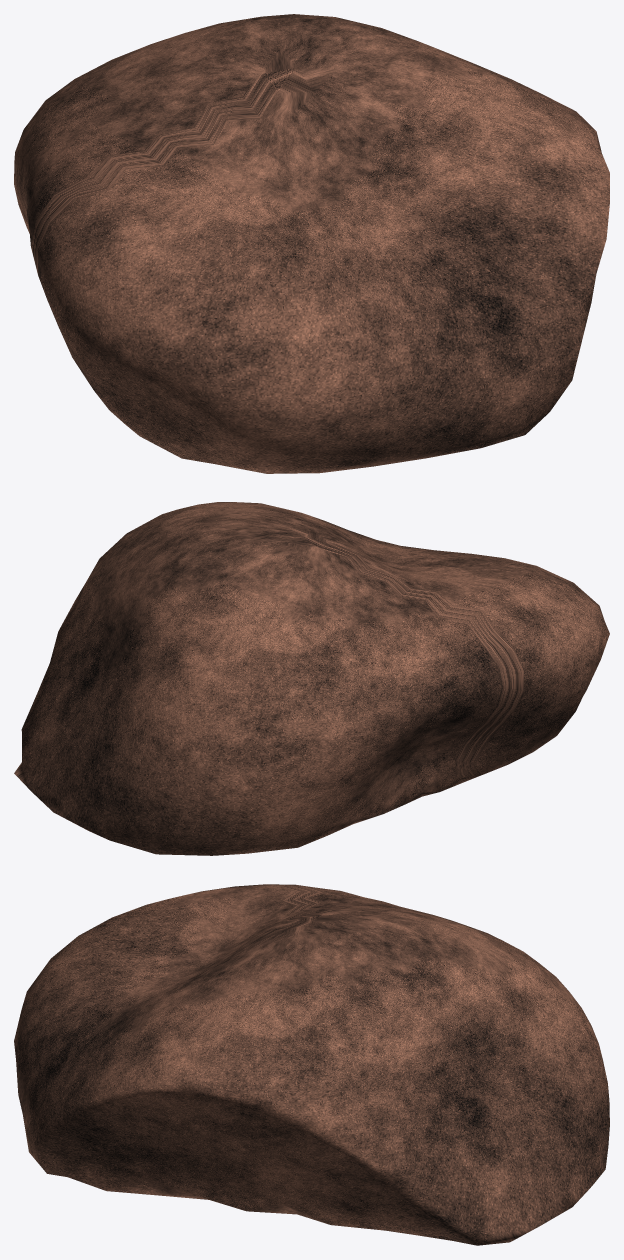
The model's file is rock_2.dae.
3 renders of one model, top to bottom at view 1: azimuth 30°, elevation 25°; view 2: azimuth 150°, elevation 25°; view 3: azimuth 270°, elevation 25°, orthographic. The views are drawn at different scales.
Parts seen in each view (by area): view 1: rock_2-node; view 2: rock_2-node; view 3: rock_2-node.
Part boxes in pixels (left/top/right/bottom): rock_2-node: left=14, top=14, right=609, bottom=473; rock_2-node: left=14, top=502, right=609, bottom=855; rock_2-node: left=14, top=884, right=609, bottom=1245.
Size of the model in its own units: 1.59 by 1.78 by 0.7523.
Materials: 1 (1 with a texture image).
